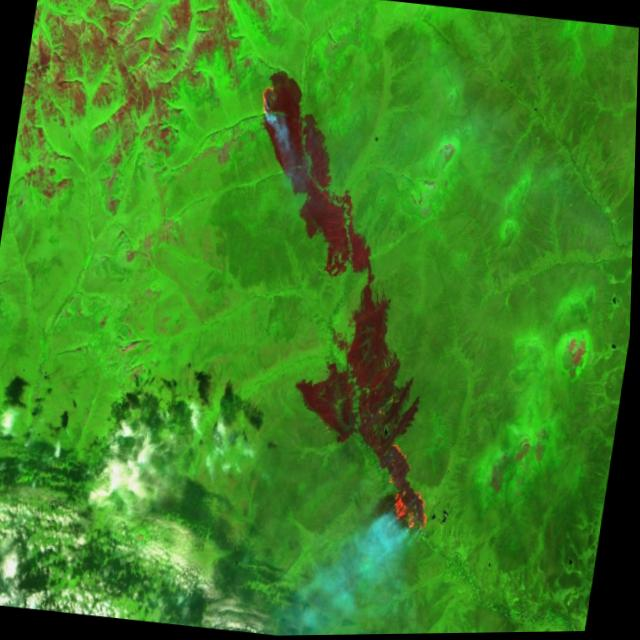fire: (377, 438, 444, 540), (250, 80, 284, 134)
